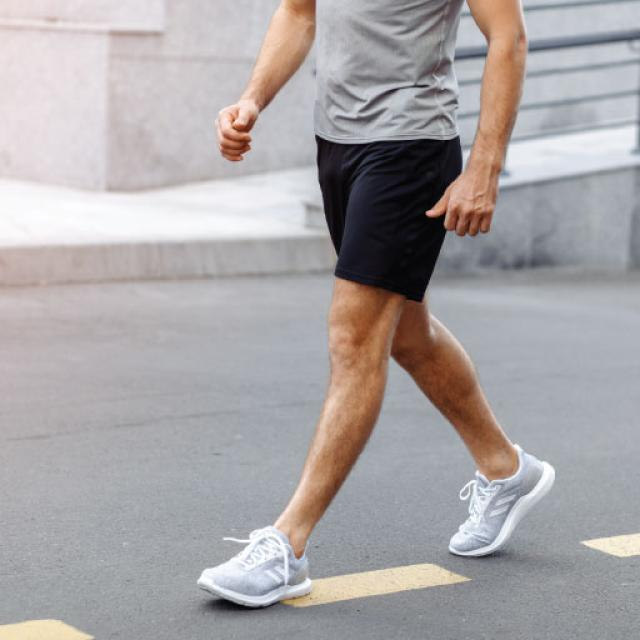Person: (195, 0, 555, 614)
